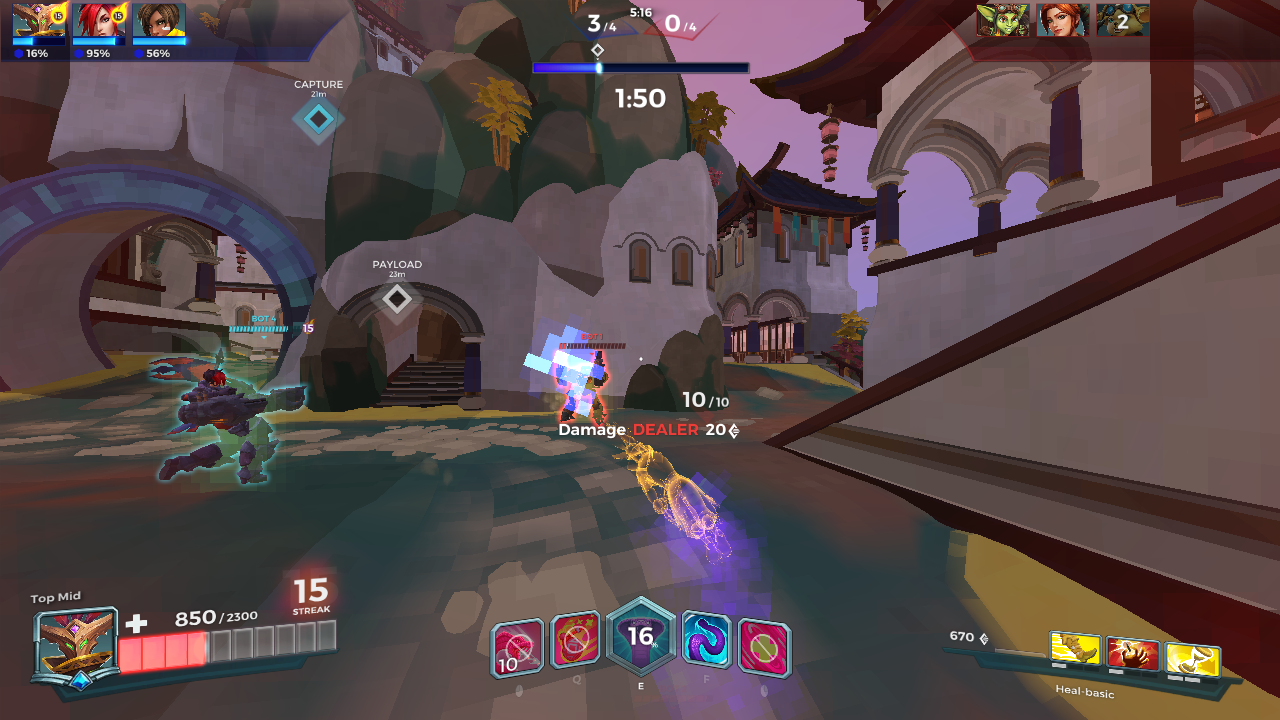model: (556, 355, 614, 424)
